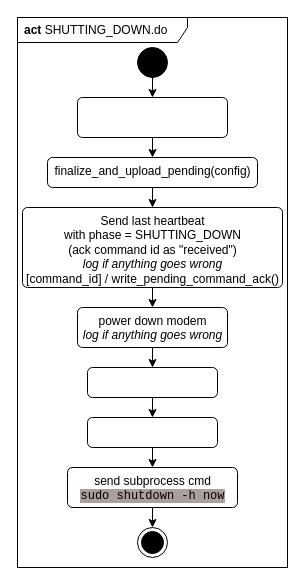
This 305x585 diagram has some shape labels left out. Each missing label, with the centre of its shape:
"Log shutdown reason" goes at (x=152, y=117).
"sync_log_files()" goes at (x=152, y=382).
"wait 2 seconds" goes at (x=152, y=432).
